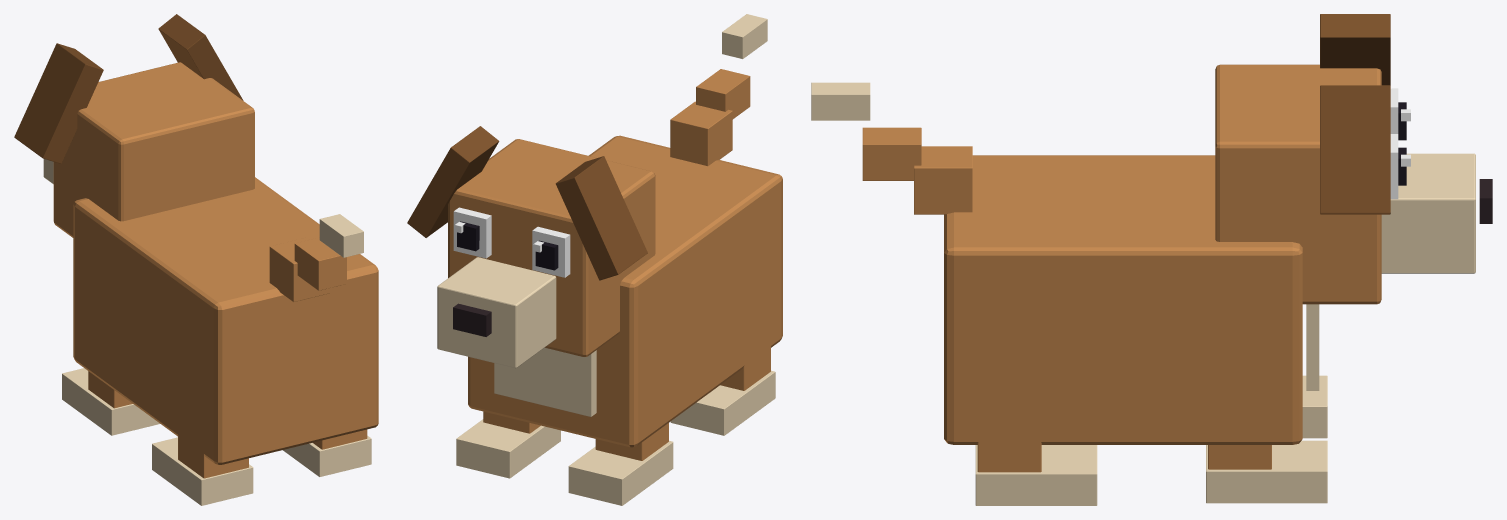
File: dog.glb
3 renders of one model, left to right at view 1: azimuth 30°, elevation 25°; view 2: azimuth 150°, elevation 25°; view 3: azimuth 270°, elevation 25°, orthographic. The views are drawn at different scales.
Visible parts, largest first — view 1: body, head, ear.R, tail, leg.BR, leg.FR, leg.BL, ear.L; view 2: body, head, tail, ear.R, leg.FR, leg.FL, leg.BR, ear.L; view 3: body, head, tail, ear.L, leg.BL, leg.FL, ear.R, leg.FR.
Boxes of the visible parts, left/top/right/bottom form: body: left=73, top=177, right=378, bottom=464; head: left=43, top=62, right=254, bottom=237; ear.R: left=14, top=43, right=103, bottom=163; tail: left=269, top=214, right=363, bottom=301; leg.BR: left=152, top=358, right=253, bottom=505; leg.FR: left=62, top=368, right=159, bottom=435; leg.BL: left=283, top=429, right=371, bottom=476; ear.L: left=158, top=14, right=243, bottom=100; body: left=468, top=135, right=782, bottom=447; head: left=437, top=139, right=655, bottom=368; tail: left=670, top=14, right=767, bottom=166; ear.R: left=555, top=156, right=647, bottom=280; leg.FR: left=568, top=423, right=673, bottom=505; leg.FL: left=456, top=411, right=560, bottom=478; leg.BR: left=670, top=346, right=775, bottom=435; ear.L: left=407, top=126, right=499, bottom=237; body: left=944, top=155, right=1319, bottom=444; head: left=1215, top=64, right=1492, bottom=304; tail: left=811, top=82, right=972, bottom=214; ear.L: left=1320, top=85, right=1390, bottom=214; leg.BL: left=975, top=362, right=1097, bottom=505; leg.FL: left=1206, top=440, right=1327, bottom=503; ear.R: left=1320, top=14, right=1390, bottom=85; leg.FR: left=1302, top=375, right=1327, bottom=438.
Bounding box in the file's own units: 0.6452 × 0.9998 × 1.52.
